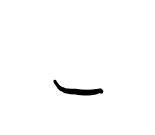minus: (52, 78, 103, 96)
